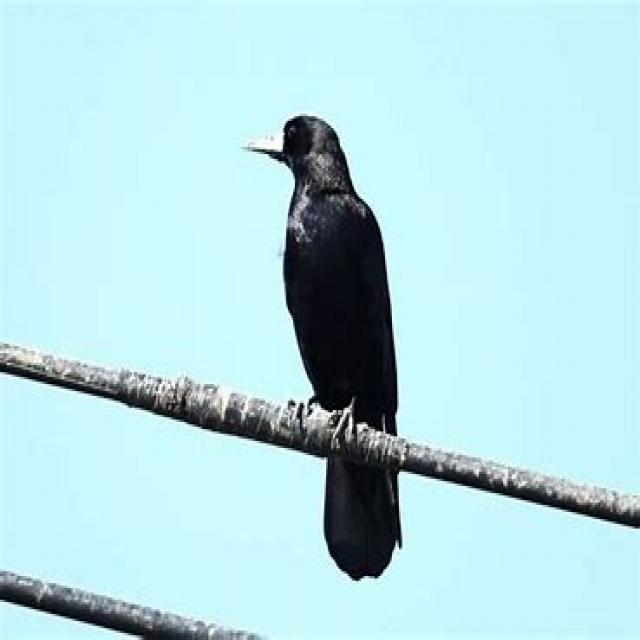crow: (244, 113, 407, 584)
